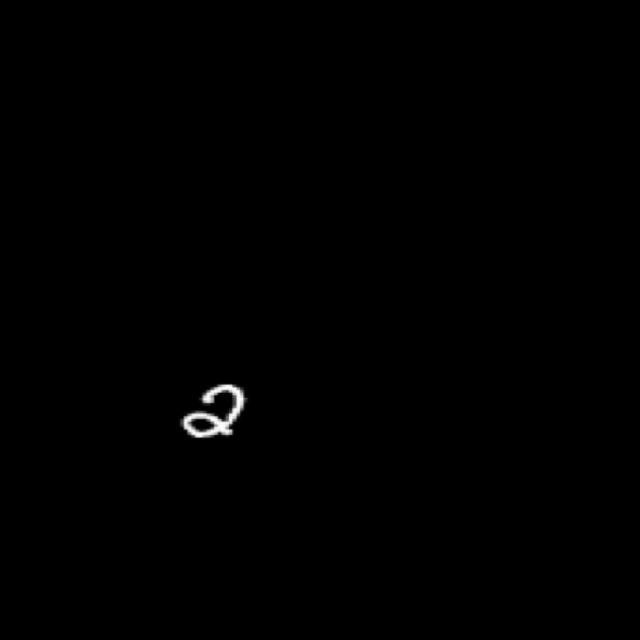two -2-: (172, 376, 262, 452)
